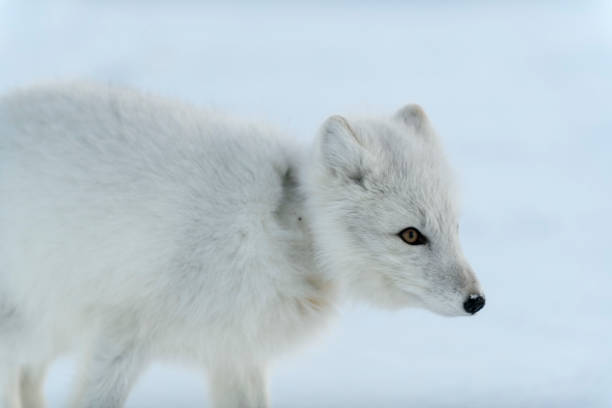arcticfox: (328, 115, 497, 336)
